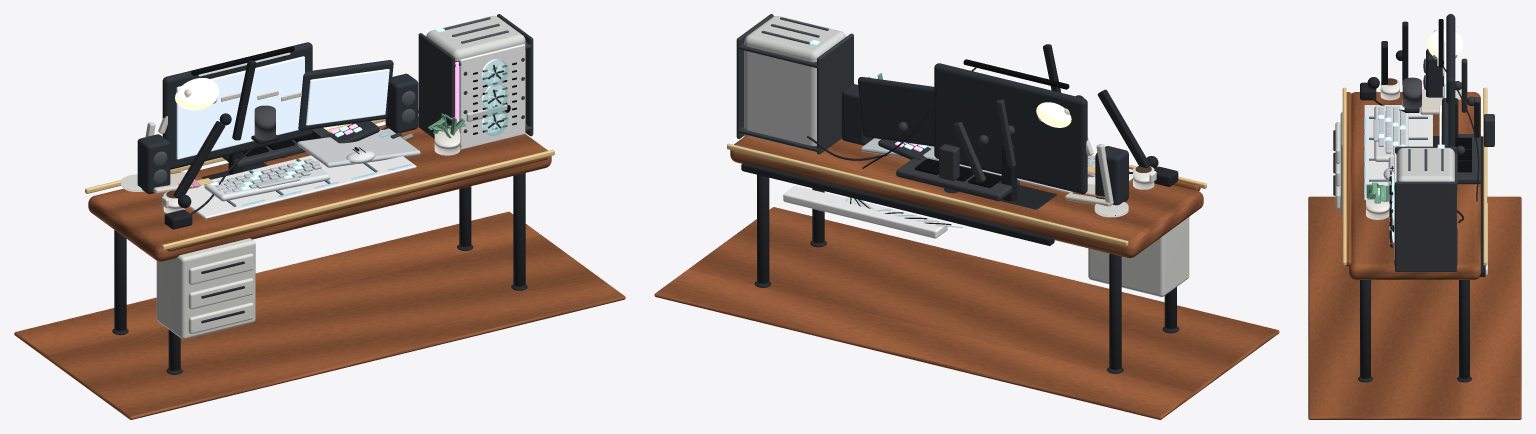
Rendered from p2s_premium_workstation_hero_v2.glb.
3 views of the same model, side by side, from view 1: azimuth 30°, elevation 25°; view 2: azimuth 150°, elevation 25°; view 3: azimuth 270°, elevation 25° (orthographic). The views are drawn at different scales.
Visible parts, largest first — view 1: premium_workstation_v2_preview_floor_shadow_catcher, premium_workstation_oiled_oak_waterfall_top, premium_workstation_main_monitor_inner_screen, premium_workstation_left_lacquer_drawer_carcase, premium_workstation_pc_recessed_front_mesh, premium_workstation_wide_felt_desk_mat, premium_workstation_side_display_blue_screen, premium_workstation_main_monitor_outer_shell, premium_workstation_v2_pc_case_vertical_frame_0.94, premium_workstation_v2_oak_end_grain_band_0.51, premium_workstation_white_pc_case_body, premium_workstation_side_display_keyboard_deck (+20 smaller); view 2: premium_workstation_v2_preview_floor_shadow_catcher, premium_workstation_oiled_oak_waterfall_top, premium_workstation_main_monitor_outer_shell, premium_workstation_white_pc_case_body, premium_workstation_side_display_shell, premium_workstation_left_lacquer_drawer_carcase, premium_workstation_rear_black_cable_raceway, premium_workstation_v2_pc_case_vertical_frame_0.94, premium_workstation_v2_underdesk_mesh_cable_tray, premium_workstation_v2_oak_end_grain_band_-0.51, premium_workstation_v2_aluminum_monitor_riser_shelf, premium_workstation_tapered_black_steel_leg_-1.32_-0.36 (+11 smaller); view 3: premium_workstation_v2_preview_floor_shadow_catcher, premium_workstation_oiled_oak_waterfall_top, premium_workstation_v2_pc_case_vertical_frame_1.54, premium_workstation_wide_felt_desk_mat, premium_workstation_white_pc_case_body, premium_workstation_main_monitor_outer_shell, premium_workstation_tapered_black_steel_leg_1.32_-0.36, premium_workstation_tapered_black_steel_leg_1.32_0.36, premium_workstation_oak_front_soft_bullnose, premium_workstation_v2_oak_end_grain_band_0.51, premium_workstation_low_profile_keyboard_body, premium_workstation_v2_oak_end_grain_band_-0.51 (+19 smaller).
Part boxes in pixels (left/top/right/bottom): premium_workstation_v2_preview_floor_shadow_catcher: left=14, top=211, right=625, bottom=419; premium_workstation_oiled_oak_waterfall_top: left=88, top=117, right=551, bottom=261; premium_workstation_main_monitor_inner_screen: left=176, top=56, right=304, bottom=159; premium_workstation_left_lacquer_drawer_carcase: left=156, top=238, right=255, bottom=339; premium_workstation_pc_recessed_front_mesh: left=459, top=44, right=525, bottom=149; premium_workstation_wide_felt_desk_mat: left=185, top=155, right=416, bottom=218; premium_workstation_side_display_blue_screen: left=306, top=69, right=389, bottom=125; premium_workstation_main_monitor_outer_shell: left=162, top=42, right=312, bottom=169; premium_workstation_v2_pc_case_vertical_frame_0.94: left=418, top=33, right=454, bottom=138; premium_workstation_v2_oak_end_grain_band_0.51: left=162, top=149, right=554, bottom=250; premium_workstation_white_pc_case_body: left=426, top=15, right=525, bottom=133; premium_workstation_side_display_keyboard_deck: left=297, top=129, right=420, bottom=167; premium_workstation_v2_preview_floor_shadow_catcher: left=654, top=207, right=1279, bottom=419; premium_workstation_oiled_oak_waterfall_top: left=730, top=136, right=1203, bottom=258; premium_workstation_main_monitor_outer_shell: left=934, top=63, right=1087, bottom=193; premium_workstation_white_pc_case_body: left=744, top=16, right=845, bottom=151; premium_workstation_side_display_shell: left=858, top=77, right=934, bottom=146; premium_workstation_left_lacquer_drawer_carcase: left=1088, top=217, right=1189, bottom=296; premium_workstation_rear_black_cable_raceway: left=741, top=162, right=1054, bottom=245; premium_workstation_v2_pc_case_vertical_frame_0.94: left=817, top=33, right=853, bottom=154; premium_workstation_v2_underdesk_mesh_cable_tray: left=783, top=186, right=947, bottom=238; premium_workstation_v2_oak_end_grain_band_-0.51: left=727, top=143, right=1128, bottom=246; premium_workstation_v2_aluminum_monitor_riser_shelf: left=896, top=158, right=1019, bottom=201; premium_workstation_tapered_black_steel_leg_-1.32_-0.36: left=1109, top=253, right=1121, bottom=369; premium_workstation_v2_preview_floor_shadow_catcher: left=1308, top=196, right=1521, bottom=419; premium_workstation_oiled_oak_waterfall_top: left=1349, top=92, right=1480, bottom=279; premium_workstation_v2_pc_case_vertical_frame_1.54: left=1395, top=181, right=1456, bottom=271; premium_workstation_wide_felt_desk_mat: left=1364, top=105, right=1432, bottom=200; premium_workstation_white_pc_case_body: left=1397, top=148, right=1454, bottom=181; premium_workstation_main_monitor_outer_shell: left=1446, top=14, right=1455, bottom=146; premium_workstation_tapered_black_steel_leg_1.32_-0.36: left=1459, top=280, right=1469, bottom=378; premium_workstation_tapered_black_steel_leg_1.32_0.36: left=1360, top=280, right=1370, bottom=378; premium_workstation_oak_front_soft_bullnose: left=1345, top=92, right=1351, bottom=266; premium_workstation_v2_oak_end_grain_band_0.51: left=1342, top=87, right=1346, bottom=265; premium_workstation_low_profile_keyboard_body: left=1374, top=105, right=1408, bottom=161; premium_workstation_v2_oak_end_grain_band_-0.51: left=1483, top=87, right=1487, bottom=265.
Bounding box in the file's own units: 3.8 × 2.04 × 1.55.
Materials: 38 (2 with a texture image).
